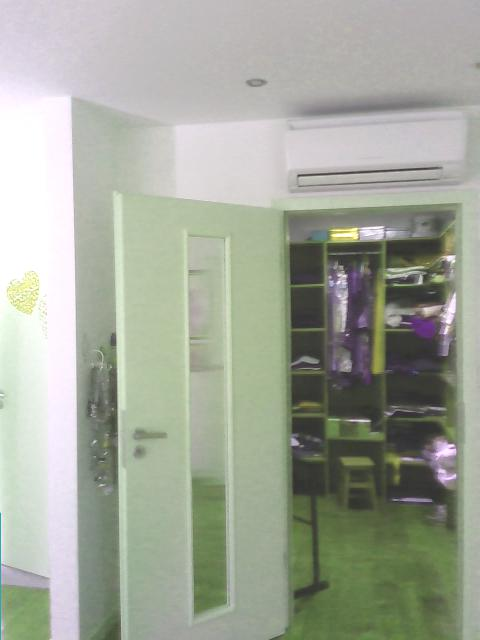open_door: (262, 187, 473, 638)
